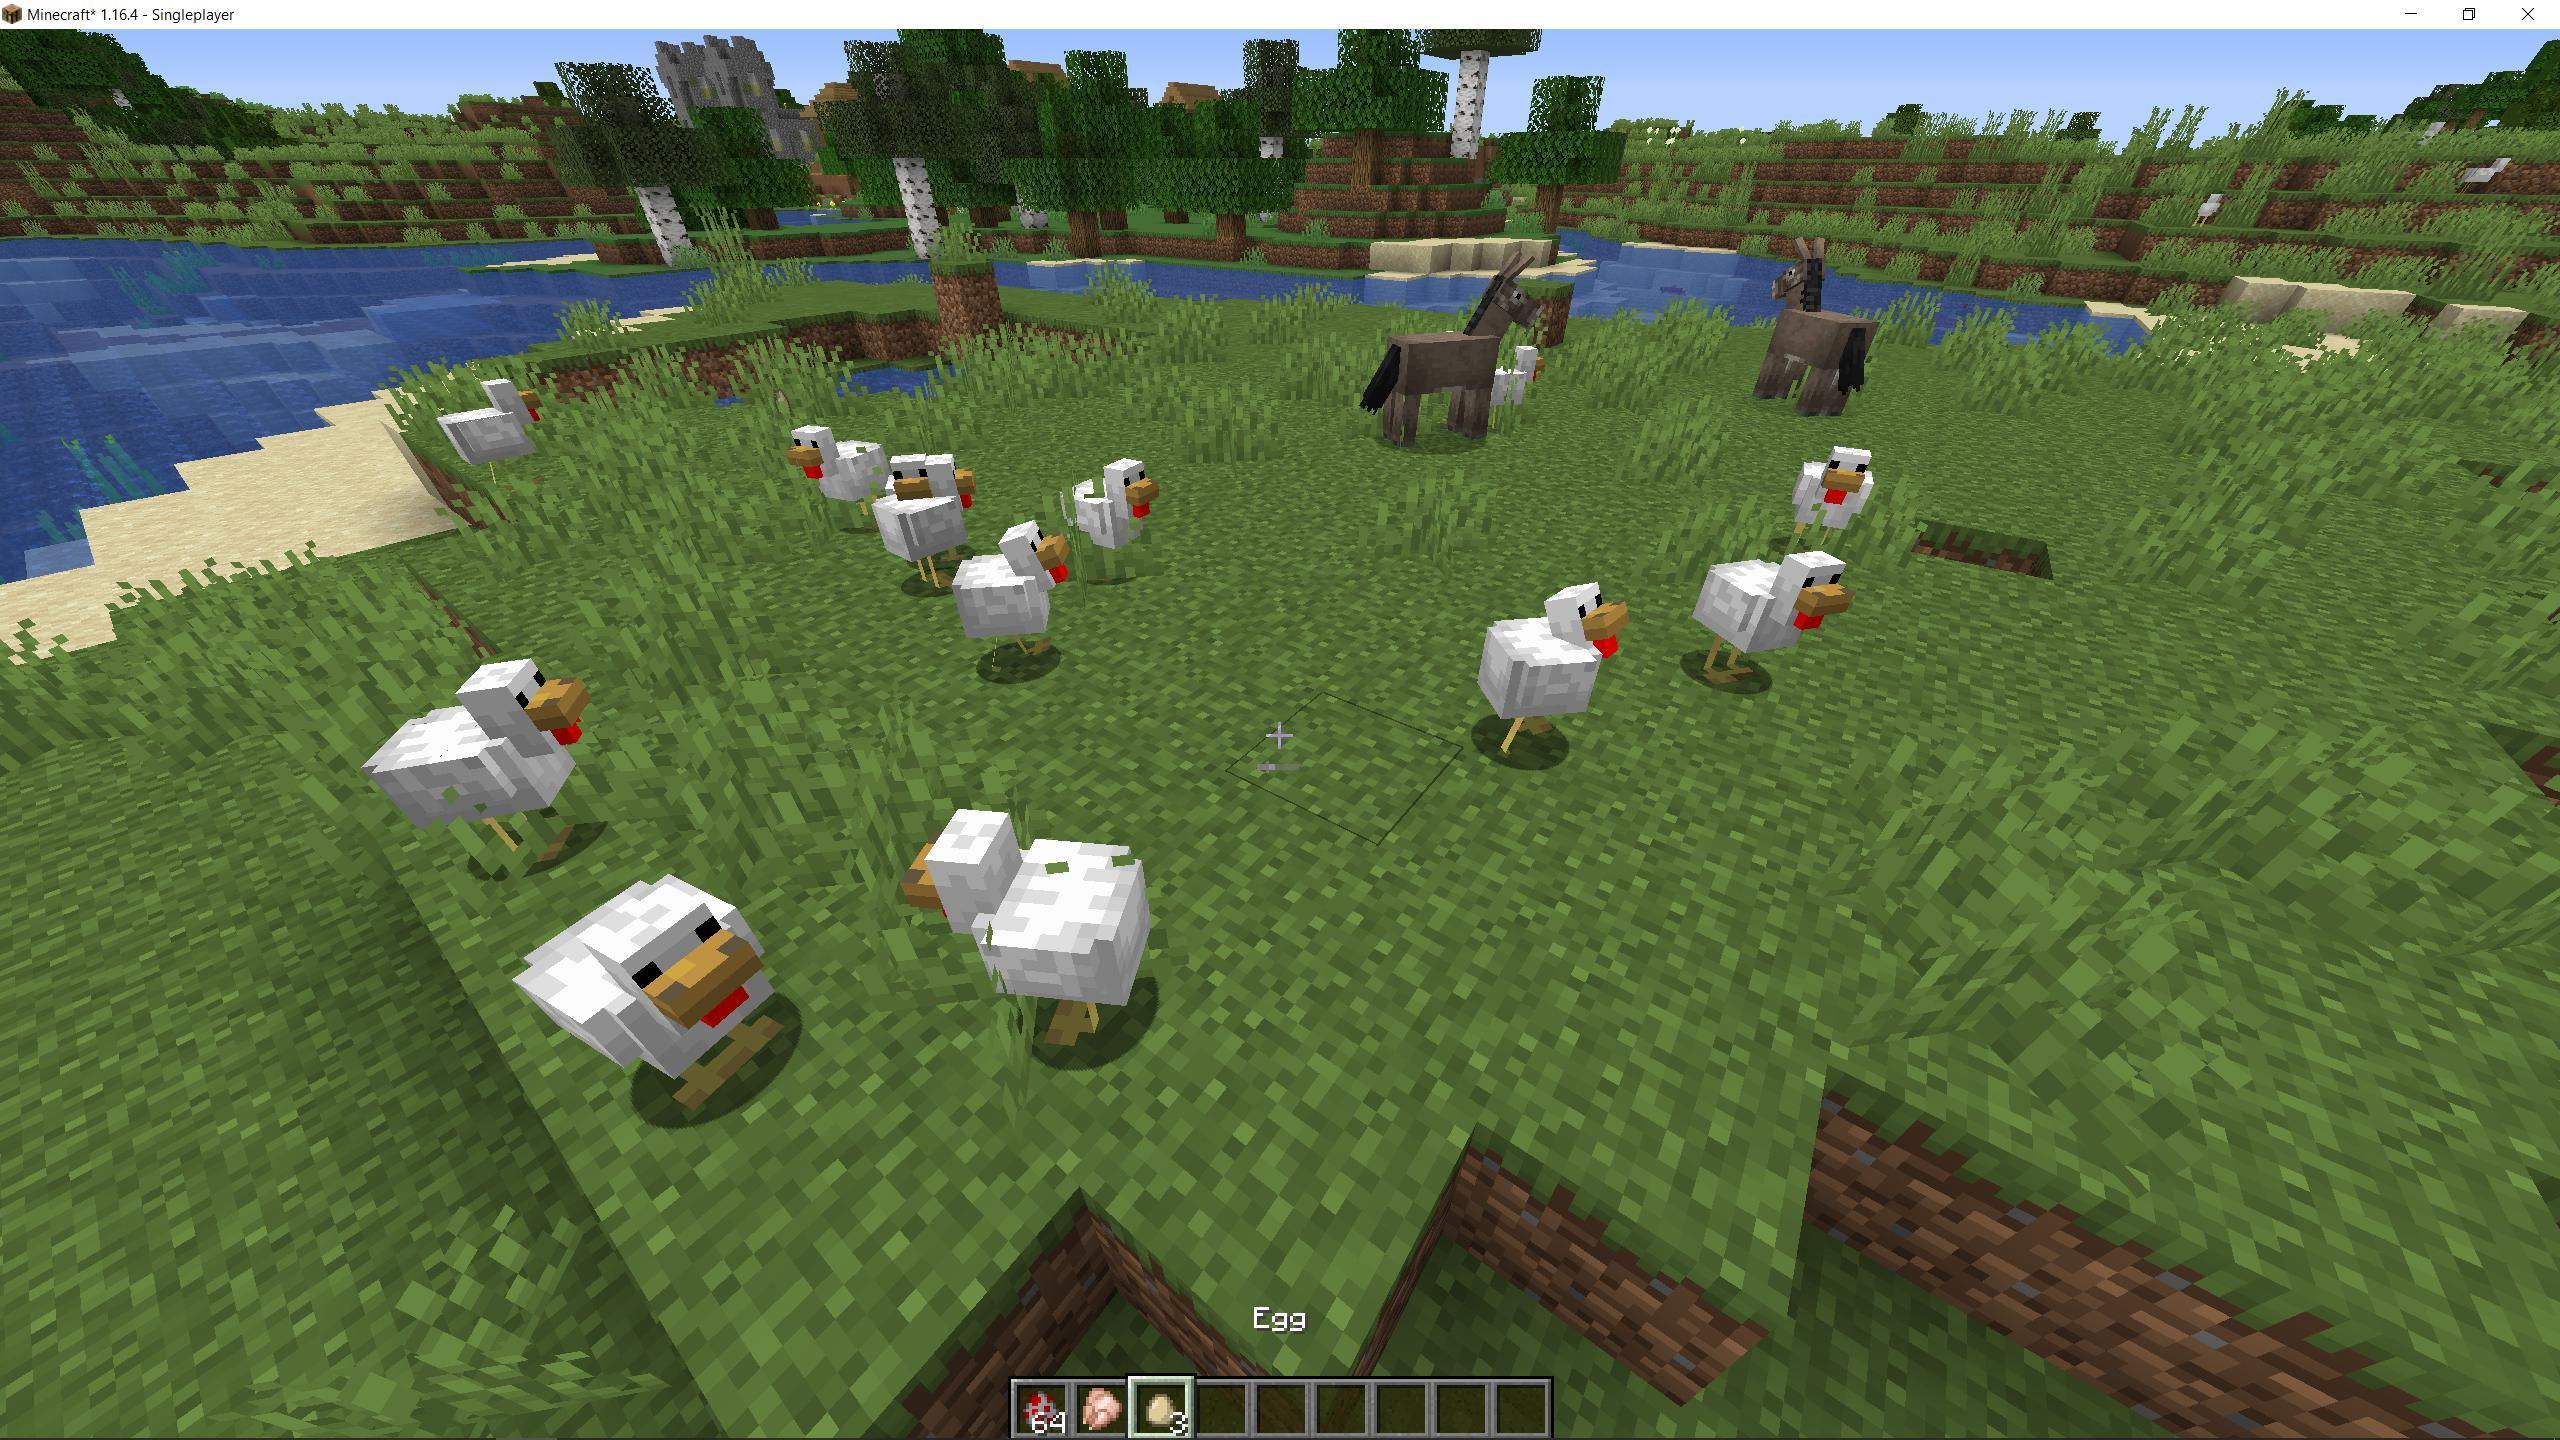chicken: (512, 856, 800, 1113), (353, 649, 608, 891), (911, 809, 1153, 1055), (1473, 575, 1626, 761)
